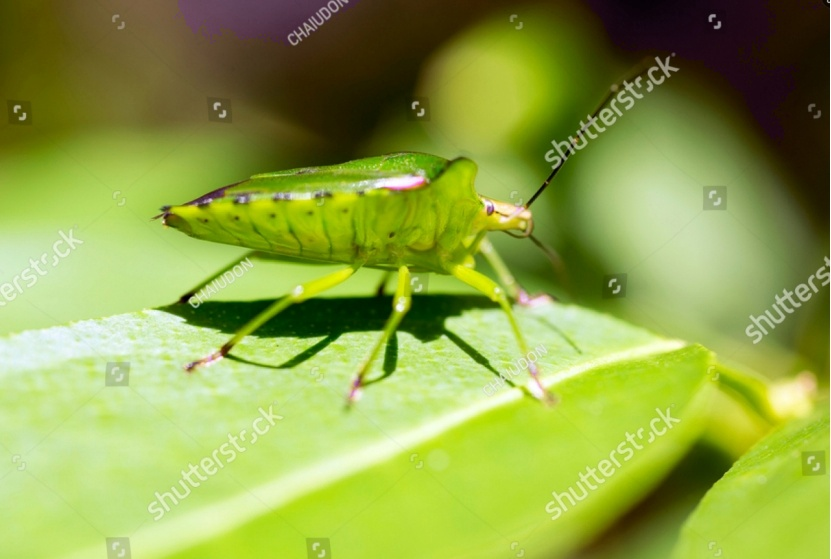Stink_Bug: (190, 149, 539, 261)
